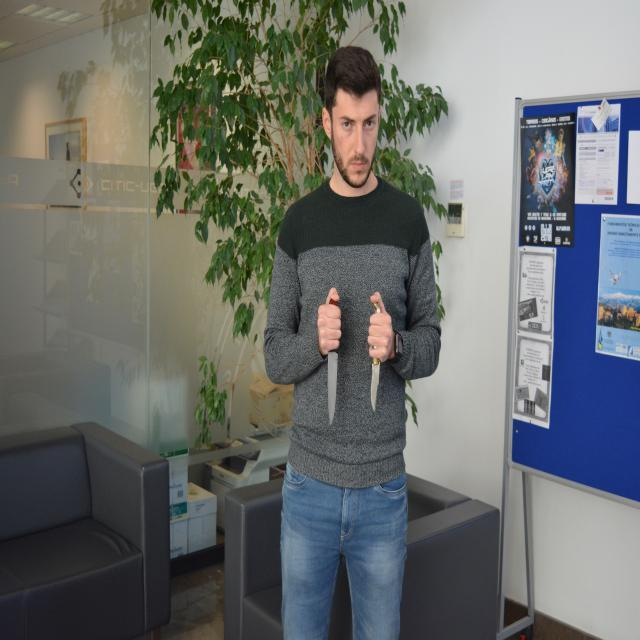knife: (327, 296, 341, 429), (371, 301, 384, 415)
